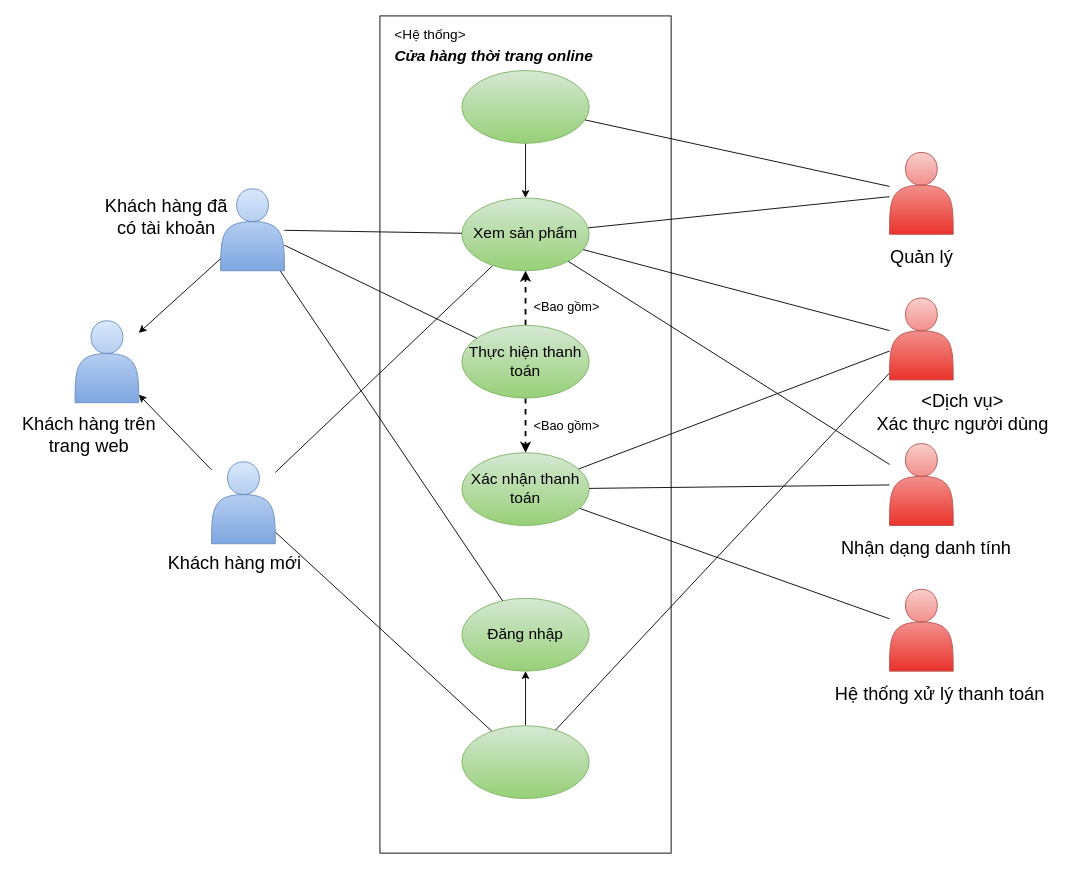
The diagram is 1068 pixels wide and 869 high, and some of its shapes have lost their labels. The centre of each missing label's shape, as x and y in pixels:
Cung cấp sản phẩm: point (525, 106)
Đăng ký: point (525, 762)
